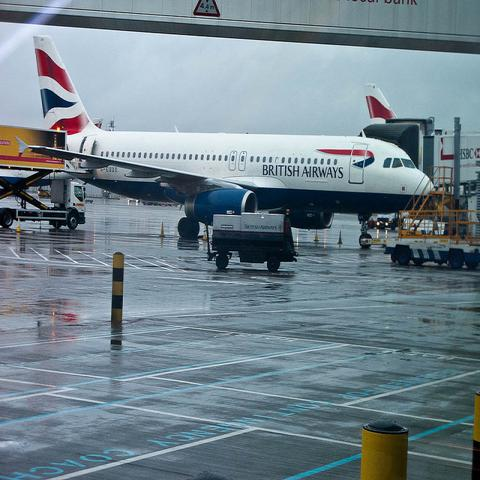truck: (3, 170, 87, 233)
